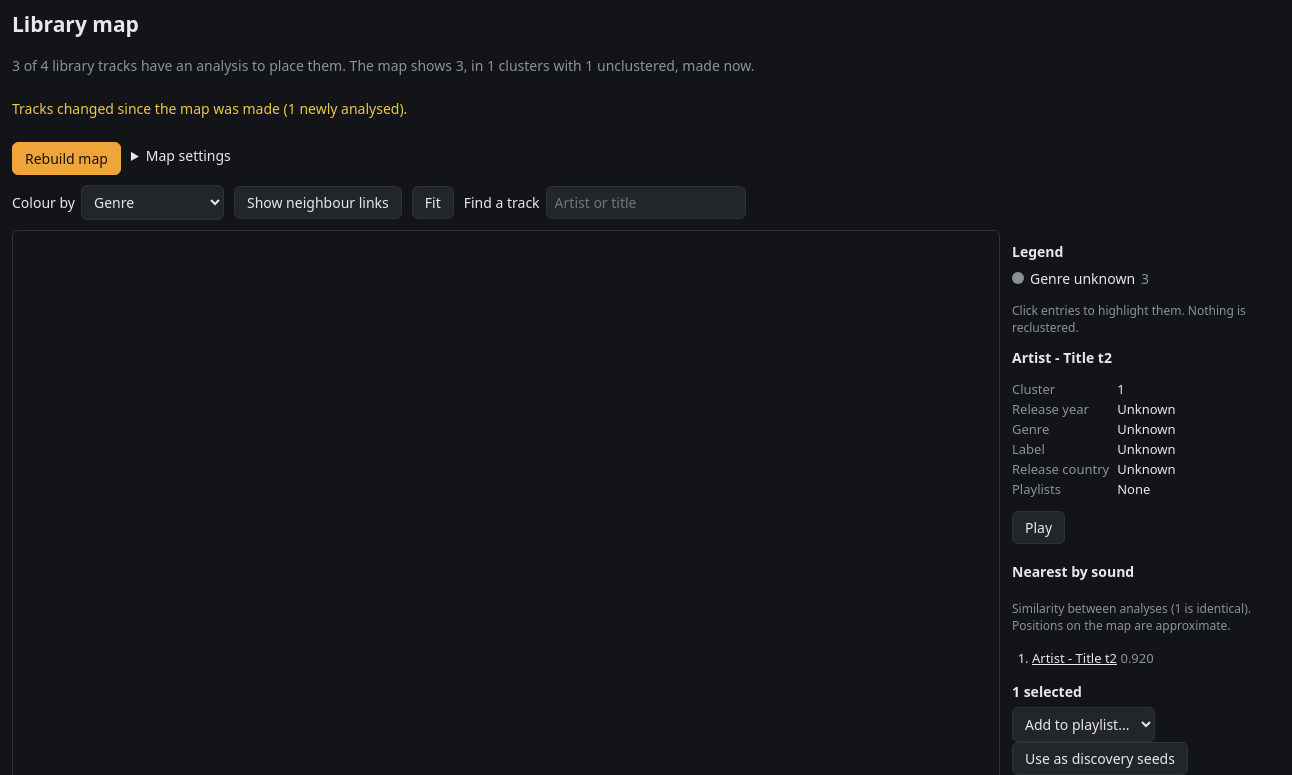
Test: rebuilds with the library-chosen distance and lists tracks it cannot place
The width and height of the screenshot is (1292, 775).
Click the button "Rebuild map": click(66, 158) [12, 142, 121, 175]
(page scrolled)
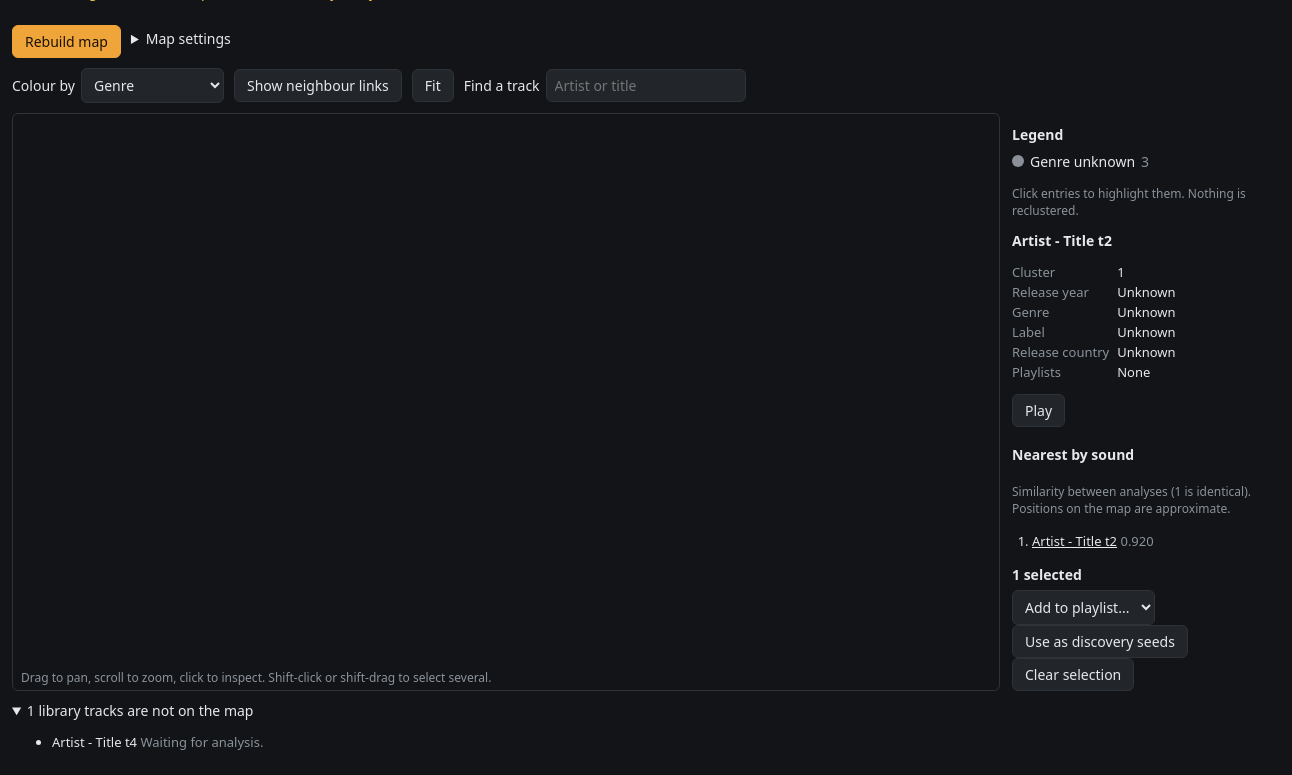
Now the text "Waiting for analysis." is shown, box [140, 733, 263, 751]
